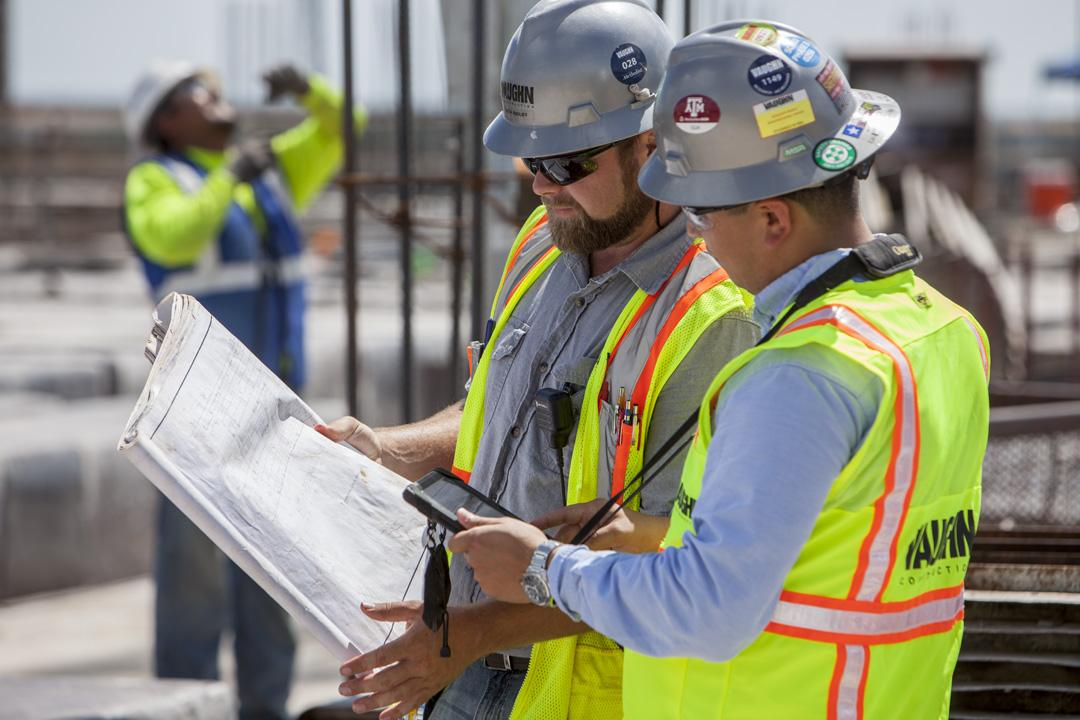helmet: (633, 16, 907, 206), (478, 1, 682, 160), (116, 55, 220, 155)
